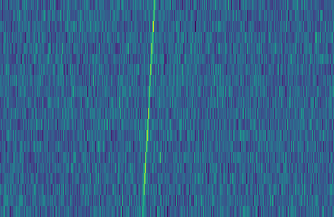signal: (137, 0, 158, 217)
